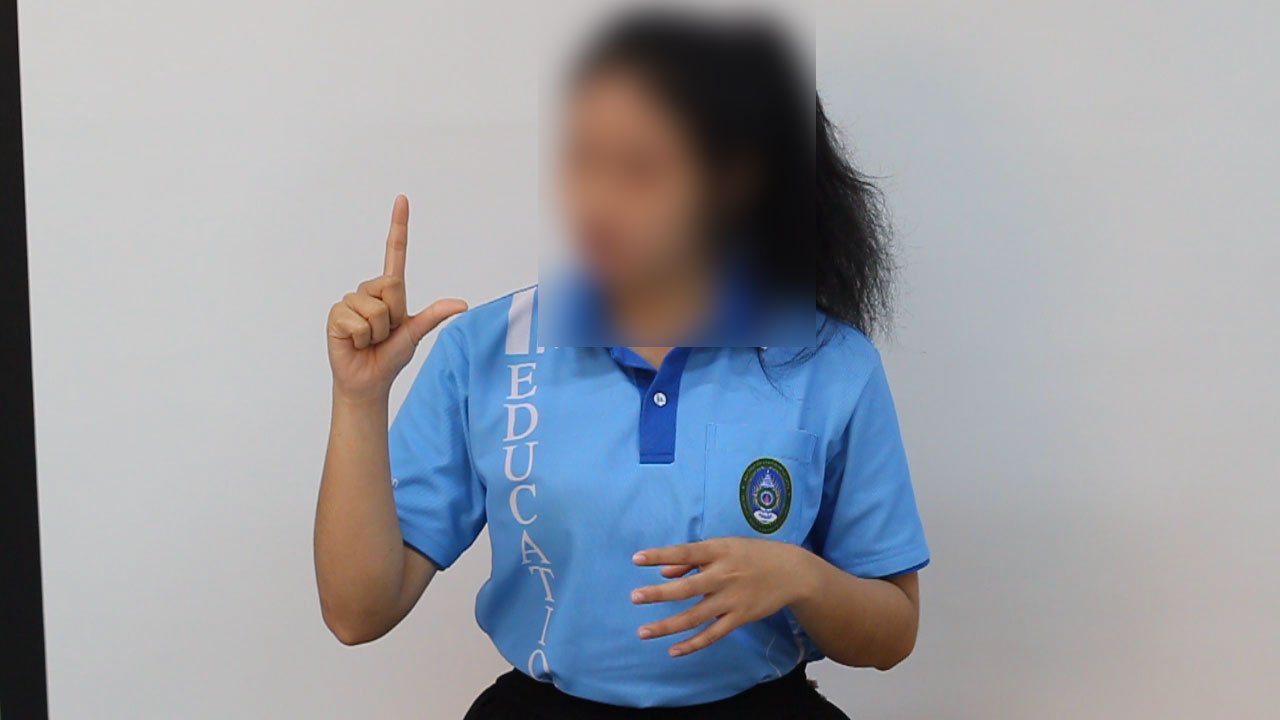lor: (317, 194, 481, 403)
